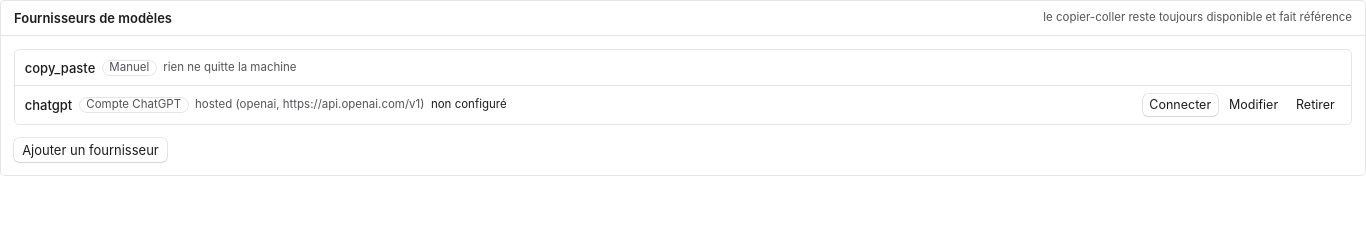
it: model providers › connects a ChatGPT account: shows the address to open, then follows the sign-in
Click the button with aria-label "Connecter chatgpt" at x=1180, y=105, box x1=1143 y1=94 x2=1218 y2=116
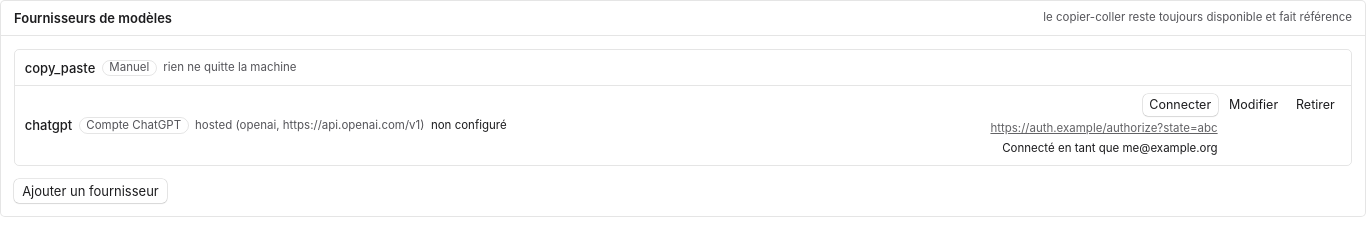
Check: the text "Connecté en tant que me@example.org" is shown, box x1=1002 y1=141 x2=1218 y2=157
